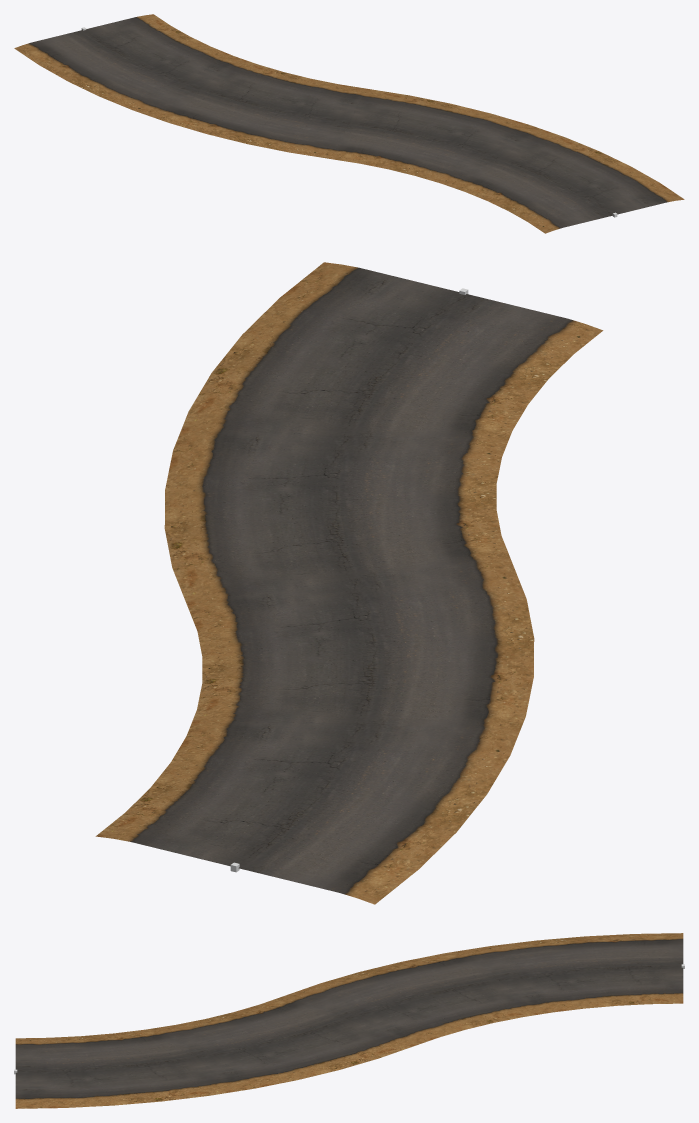
Rendered from roadShift.left3.fbx.
3 views of the same model, one above another, from view 1: azimuth 30°, elevation 25°; view 2: azimuth 150°, elevation 25°; view 3: azimuth 270°, elevation 25° (orthographic). The views are drawn at different scales.
Parts seen in each view (by area): view 1: MESH roadShift.left3; view 2: MESH roadShift.left3; view 3: MESH roadShift.left3.
Boxes of the visible parts, bbox=[...] form: MESH roadShift.left3: bbox=[14, 14, 684, 233]; MESH roadShift.left3: bbox=[95, 262, 603, 904]; MESH roadShift.left3: bbox=[15, 933, 683, 1108].
Size of what is drawn, in the model's own units: 5980 by 50.77 by 9650.
